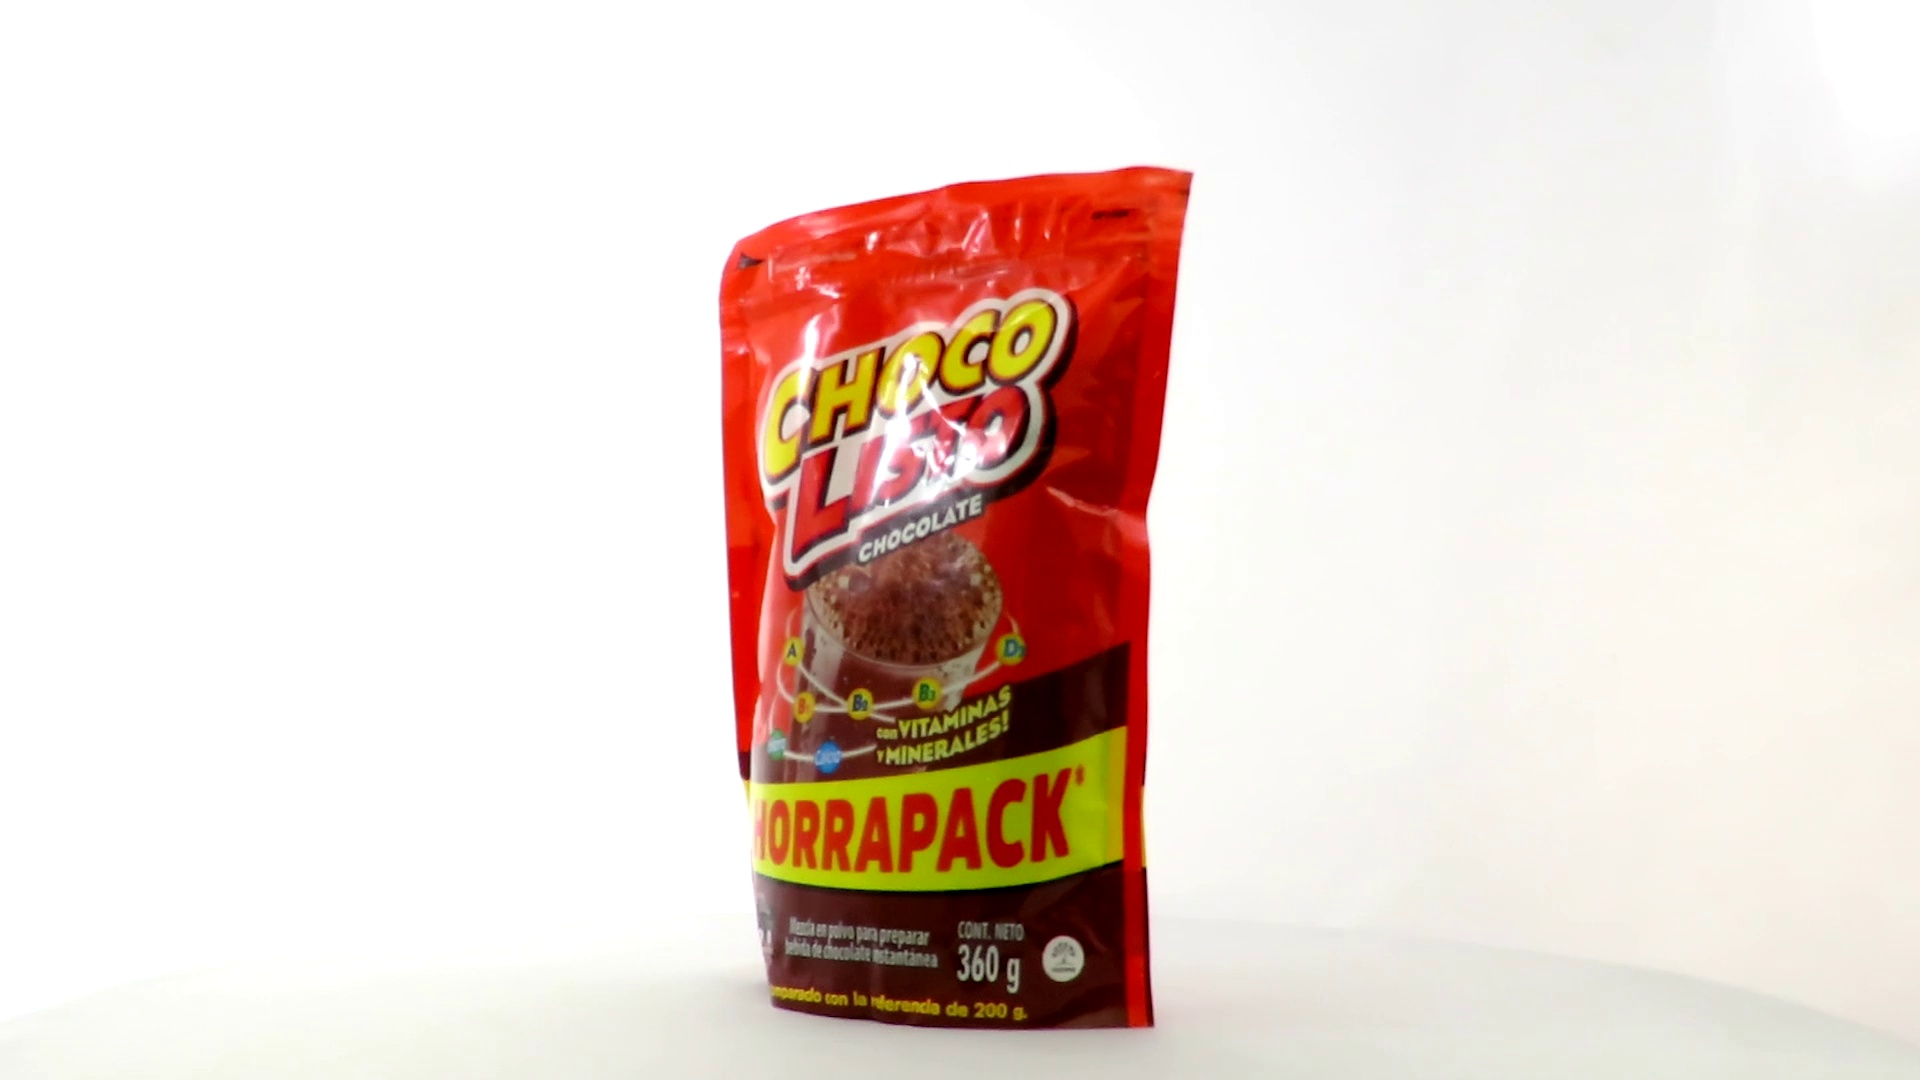COL0170103DYP36000: (713, 161, 1200, 1036)
